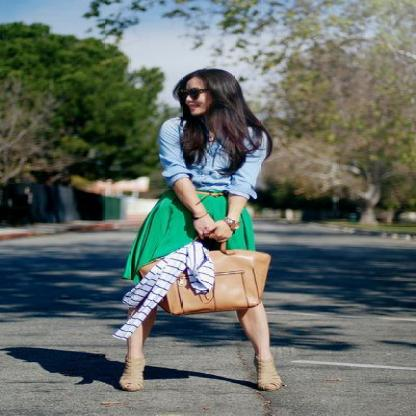bag: (166, 242, 270, 324)
shirt: (158, 117, 266, 198)
shoe: (120, 365, 280, 389)
skirt: (125, 191, 261, 274)
